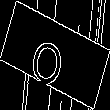O_N: (34, 23, 76, 87)
